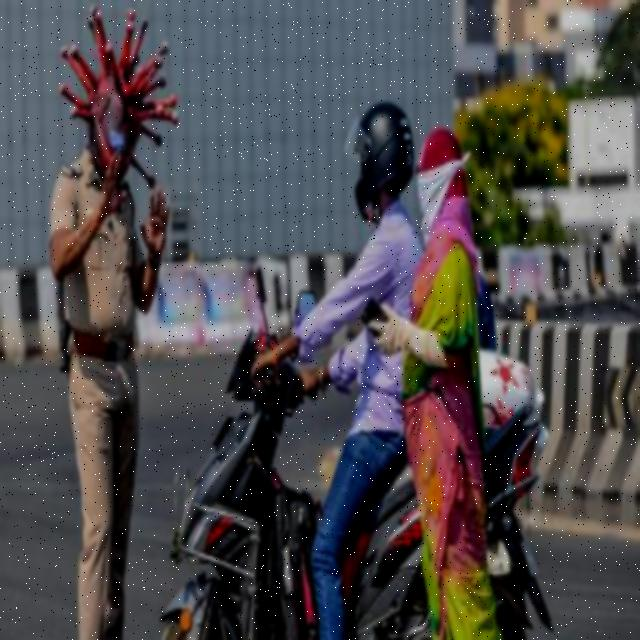not_triplets: (167, 86, 540, 640)
with-helmet: (341, 97, 415, 215)
